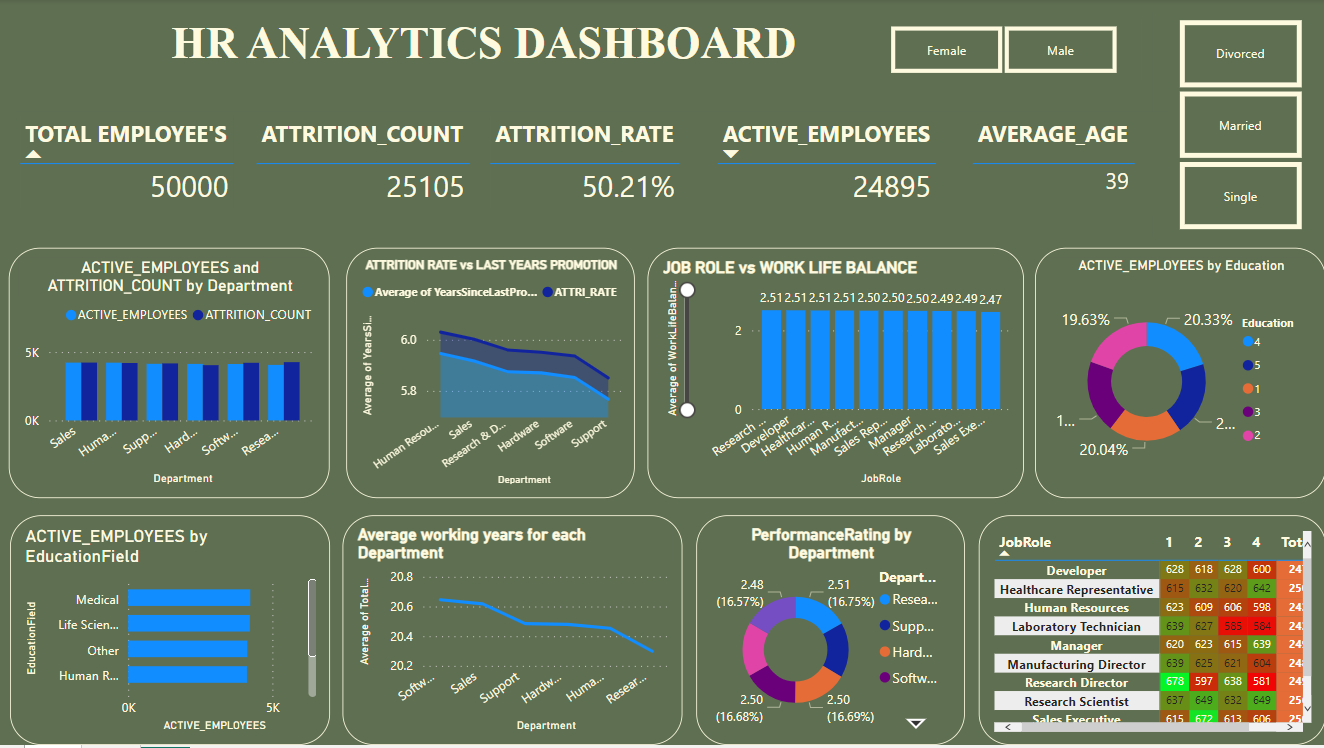

Layout of this report page (visuals, bound fields, positions):
{"tool":"powerbi","page":{"name":"1","canvas":[1280,720],"ordinal":0},"visuals":[{"type":"tableEx","title":"TOTAL EMPLOYEES","fields":{"Values":["HR1_Analyst.ATTRITION_RATE"]},"box":[466.3,108.5,232.2,102.5],"z":0,"group":"g1"},{"type":"clusteredColumnChart","title":"ACTIVE_EMPLOYEES and ATTRITION_COUNT by Department","fields":{"Category":["HR1_Analyst.Department"],"Y":["HR1_Analyst.ACTIVE_EMPLOYEES","HR1_Analyst.ATTRITION_COUNT"]},"box":[8.4,240,309.9,241.2],"z":0},{"type":"tableEx","title":"TOTAL EMPLOYEES","fields":{"Values":["HR1_Analyst.ACTIVE_EMPLOYEES"]},"box":[686.7,108.5,245.6,99.8],"z":1000,"group":"g1"},{"type":"clusteredBarChart","fields":{"Category":["HR1_Analyst.EducationField"],"Y":["HR1_Analyst.ACTIVE_EMPLOYEES"]},"box":[9.6,498.1,308.7,221.9],"z":1000},{"type":"tableEx","title":"TOTAL EMPLOYEES","fields":{"Values":["HR1_Analyst.ATTRITION_COUNT"]},"box":[241.4,108.5,228.1,99.8],"z":2000,"group":"g1"},{"type":"pivotTable","fields":{"Rows":["HR1_Analyst.JobRole"],"Columns":["HR1_Analyst.JobSatisfaction"],"Values":["HR1_Analyst.ACTIVE_EMPLOYEES"]},"box":[944.3,498.1,335.3,221.9],"z":2000},{"type":"tableEx","title":"TOTAL EMPLOYEES","fields":{"Values":["HR1_Analyst.AVERAGE_AGE"]},"box":[932.3,108.5,193,99.8],"z":3000,"group":"g1"},{"type":"donutChart","title":"PerformanceRating by Department","fields":{"Category":["HR1_Analyst.Department"],"Y":["Avg(HR2_Analyst.PerformanceRating)"]},"box":[671.8,498.1,259.3,221.9],"z":3000},{"type":"tableEx","title":"TOTAL EMPLOYEES","fields":{"Values":["HR1_Analyst.EmployeeCount"]},"box":[13.3,108.5,228.1,99.8],"z":4000,"group":"g1"},{"type":"donutChart","fields":{"Category":["HR1_Analyst.Education"],"Y":["HR1_Analyst.ACTIVE_EMPLOYEES"]},"box":[998.6,240,281,241.2],"z":4000},{"type":"columnChart","title":"JOB ROLE vs WORK LIFE BALANCE","fields":{"Category":["HR1_Analyst.JobRole"],"Y":["Avg(HR2_Analyst.WorkLifeBalance)"]},"box":[624.7,240,363,241.2],"z":5000},{"type":"lineClusteredColumnComboChart","title":"Average working years for each Department","fields":{"Category":["HR1_Analyst.Department"],"Y2":["Avg(HR2_Analyst.TotalWorkingYears)"]},"box":[330.5,498.1,328,221.9],"z":6000},{"type":"stackedAreaChart","title":"ATTRITION RATE vs LAST YEARS PROMOTION","fields":{"Category":["HR1_Analyst.Department"],"Y":["Avg(HR2_Analyst.YearsSinceLastPromotion)","HR1_Analyst.ATTRI_RATE"]},"box":[334.1,240,278.6,241.2],"z":7000},{"type":"slicer","fields":{"Values":["HR1_Analyst.Gender"]},"box":[833.4,19.3,267.7,59.1],"z":8000},{"type":"slicer","fields":{"Values":["HR1_Analyst.MaritalStatus"]},"box":[1112,13.3,167.6,215.9],"z":9000},{"type":"textbox","box":[100.1,13.3,733.3,68.7],"z":10000},{"type":"group","id":"g1","title":"Group 1","box":[13.3,108.5,1112,102.5],"z":11000}]}

Visuals, with their boxes in screenshot pixels (x1, y1, x2, y2), scaled from the page's 1280x720 canvas onto the 1324x748 screenshot:
"TOTAL EMPLOYEES" tableEx: Rect(482, 113, 723, 219)
"ACTIVE_EMPLOYEES and ATTRITION_COUNT by Department" clusteredColumnChart: Rect(9, 249, 329, 500)
"TOTAL EMPLOYEES" tableEx: Rect(710, 113, 964, 216)
clusteredBarChart - HR1_Analyst.EducationField x HR1_Analyst.ACTIVE_EMPLOYEES: Rect(10, 517, 329, 747)
"TOTAL EMPLOYEES" tableEx: Rect(250, 113, 486, 216)
pivotTable - HR1_Analyst.JobRole x HR1_Analyst.JobSatisfaction: Rect(977, 517, 1323, 747)
"TOTAL EMPLOYEES" tableEx: Rect(964, 113, 1164, 216)
"PerformanceRating by Department" donutChart: Rect(695, 517, 963, 747)
"TOTAL EMPLOYEES" tableEx: Rect(14, 113, 250, 216)
donutChart - HR1_Analyst.Education x HR1_Analyst.ACTIVE_EMPLOYEES: Rect(1033, 249, 1323, 500)
"JOB ROLE vs WORK LIFE BALANCE" columnChart: Rect(646, 249, 1022, 500)
"Average working years for each Department" lineClusteredColumnComboChart: Rect(342, 517, 681, 747)
"ATTRITION RATE vs LAST YEARS PROMOTION" stackedAreaChart: Rect(346, 249, 634, 500)
slicer - HR1_Analyst.Gender: Rect(862, 20, 1139, 81)
slicer - HR1_Analyst.MaritalStatus: Rect(1150, 14, 1323, 238)
textbox: Rect(104, 14, 862, 85)
"Group 1" group: Rect(14, 113, 1164, 219)
